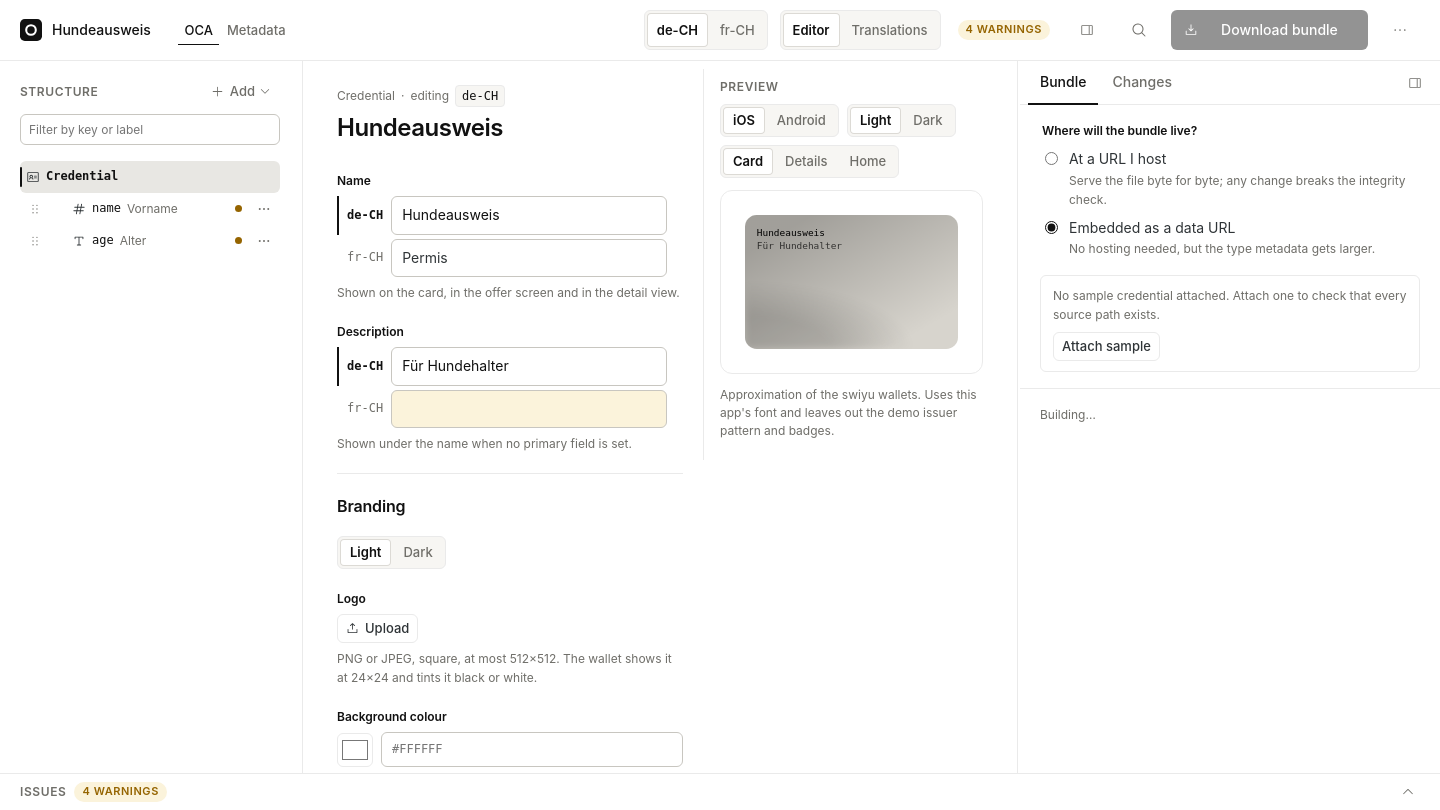
Test: Changes tab › shows the count, the warning, both #integrity values and the grouped rows
Click the tab "Changes" at (1142, 83), box left=1100, top=61, right=1184, bottom=105
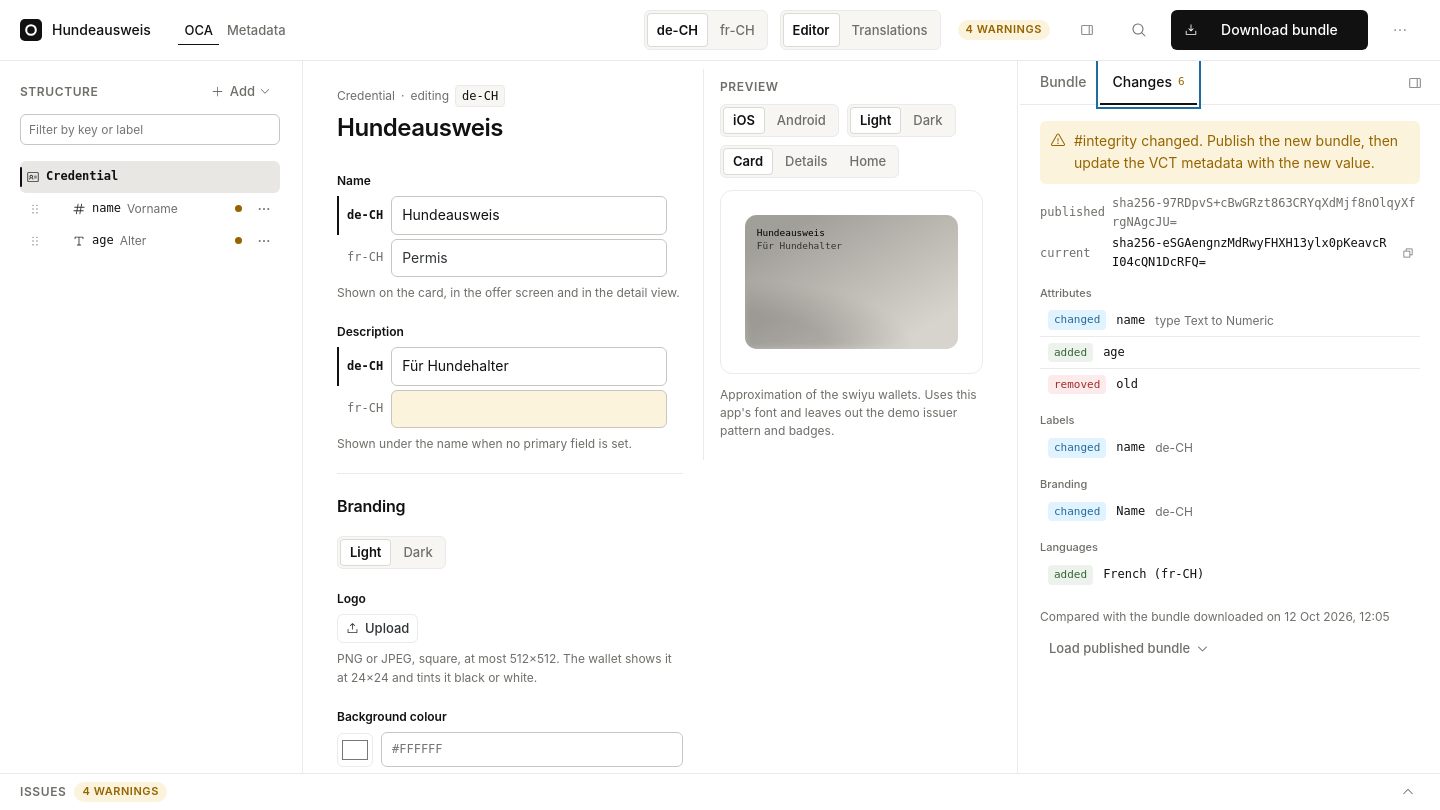
Expected: the text "#integrity changed. Publish the new bundle, then update the VCT metadata with the new value." is shown, left=1074, top=132, right=1398, bottom=171
Expected: the button named "Copy integrity" is shown, left=1396, top=241, right=1420, bottom=265
Expected: the headings read "Attributes", "Labels", "Branding", "Languages", in this order, left=1040, top=286, right=1092, bottom=300; left=1040, top=413, right=1074, bottom=427; left=1040, top=477, right=1087, bottom=491; left=1040, top=540, right=1098, bottom=554
